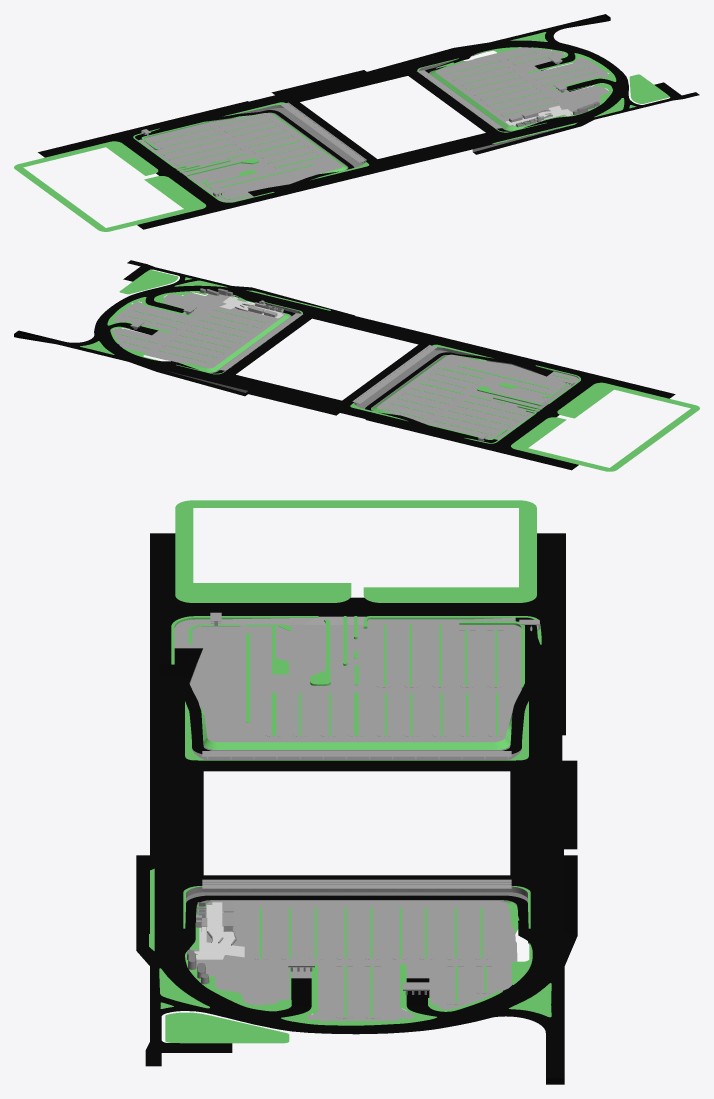
The model's file is T12_Planes.fbx.
3 renders of one model, top to bottom at view 1: azimuth 30°, elevation 25°; view 2: azimuth 150°, elevation 25°; view 3: azimuth 270°, elevation 25°, orthographic. The views are drawn at different scales.
Parts seen in each view (by area): view 1: pPlane304, pPlane335, polySurface2938, polySurface2941, pPlane358, polySurface3010, polySurface3011; view 2: pPlane304, pPlane335, polySurface2938, polySurface2941, pPlane358, polySurface3011, polySurface3010; view 3: pPlane304, pPlane335, polySurface2938, polySurface2941, pPlane358, polySurface2977, polySurface2988, polySurface3010, polySurface3011.
Boxes of the visible parts, left/top/right/bottom form: pPlane304: left=38, top=70, right=472, bottom=229; pPlane335: left=367, top=14, right=699, bottom=154; polySurface2938: left=14, top=141, right=206, bottom=231; polySurface2941: left=436, top=32, right=669, bottom=143; pPlane358: left=506, top=105, right=573, bottom=127; polySurface3010: left=320, top=131, right=366, bottom=162; polySurface3011: left=281, top=102, right=327, bottom=133; pPlane304: left=245, top=315, right=675, bottom=470; pPlane335: left=14, top=260, right=354, bottom=396; polySurface2938: left=511, top=382, right=699, bottom=471; polySurface2941: left=80, top=270, right=330, bottom=368; pPlane358: left=219, top=296, right=283, bottom=318; polySurface3011: left=352, top=373, right=397, bottom=404; polySurface3010: left=391, top=345, right=436, bottom=375; pPlane304: left=150, top=533, right=577, bottom=849; pPlane335: left=136, top=849, right=577, bottom=1084; polySurface2938: left=175, top=500, right=536, bottom=602; polySurface2941: left=149, top=868, right=551, bottom=1043; pPlane358: left=194, top=901, right=244, bottom=959; polySurface2977: left=357, top=879, right=511, bottom=888; polySurface2988: left=202, top=879, right=356, bottom=888; polySurface3010: left=202, top=751, right=356, bottom=756; polySurface3011: left=357, top=751, right=511, bottom=756.
Size of the model in its own units: 887 by 10.52 by 286.
